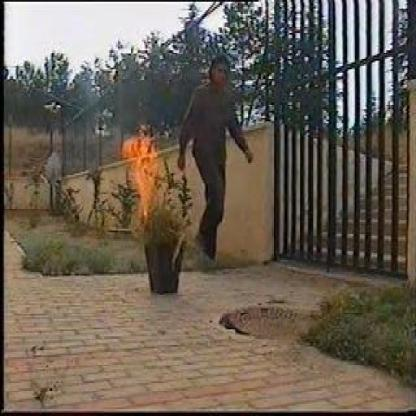foggia-v2-map80-epoch100 - v1 4323: (122, 116, 164, 215)
